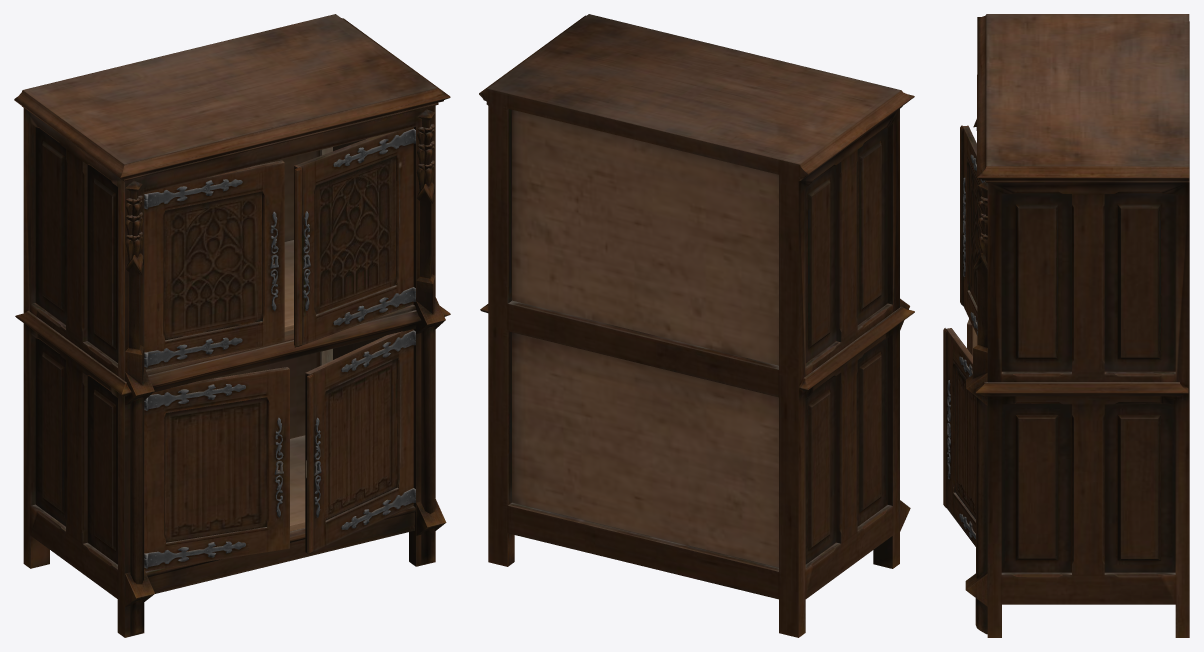
The model's file is GothicCabinet_01.glb.
3 views of the same model, side by side, from view 1: azimuth 30°, elevation 25°; view 2: azimuth 150°, elevation 25°; view 3: azimuth 270°, elevation 25° (orthographic).
Visible parts, largest first — view 1: GothicCabinet_01_cabinet, GothicCabinet_01_door3, GothicCabinet_01_door1, GothicCabinet_01_door2, GothicCabinet_01_door4; view 2: GothicCabinet_01_cabinet; view 3: GothicCabinet_01_cabinet, GothicCabinet_01_door4, GothicCabinet_01_door2.
Boxes of the visible parts, box(x1,y1,x2,y2) form: GothicCabinet_01_cabinet: box(14, 14, 450, 637); GothicCabinet_01_door3: box(144, 367, 289, 571); GothicCabinet_01_door1: box(144, 160, 284, 369); GothicCabinet_01_door2: box(294, 127, 415, 347); GothicCabinet_01_door4: box(305, 329, 415, 554); GothicCabinet_01_cabinet: box(479, 14, 914, 637); GothicCabinet_01_cabinet: box(965, 14, 1189, 637); GothicCabinet_01_door4: box(943, 328, 975, 546); GothicCabinet_01_door2: box(960, 125, 985, 335).
Size of the model in its own units: 1.72 by 2.36 by 1.12.
1 material, 1 textured.
